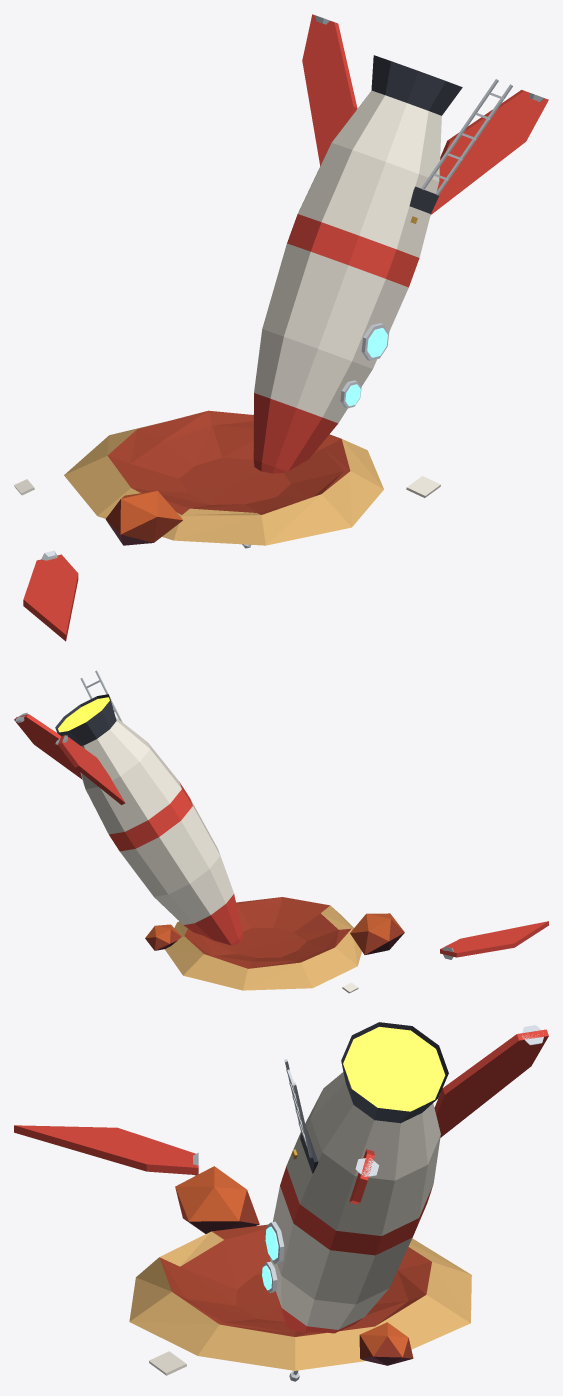
The model's file is Ship_Rocket_Classic_Crashed.fbx.
3 renders of one model, top to bottom at view 1: azimuth 30°, elevation 25°; view 2: azimuth 150°, elevation 25°; view 3: azimuth 270°, elevation 25°, orthographic. The views are drawn at different scales.
Parts seen in each view (by area): view 1: Ship_Rocket_Classic_Crashed_Body, Ship_Rocket_Classic_Crashed_Crater, Ship_Rocket_Classic_Crashed_Loose_Fin; view 2: Ship_Rocket_Classic_Crashed_Body, Ship_Rocket_Classic_Crashed_Crater, Ship_Rocket_Classic_Crashed_Loose_Fin; view 3: Ship_Rocket_Classic_Crashed_Body, Ship_Rocket_Classic_Crashed_Crater, Ship_Rocket_Classic_Crashed_Loose_Fin, Ship_Rocket_Classic_Crashed_Debris.
Boxes of the visible parts, bbox=[...] form: Ship_Rocket_Classic_Crashed_Body: bbox=[242, 14, 548, 548]; Ship_Rocket_Classic_Crashed_Crater: bbox=[64, 410, 383, 545]; Ship_Rocket_Classic_Crashed_Loose_Fin: bbox=[23, 550, 78, 641]; Ship_Rocket_Classic_Crashed_Body: bbox=[14, 670, 243, 945]; Ship_Rocket_Classic_Crashed_Crater: bbox=[145, 897, 404, 990]; Ship_Rocket_Classic_Crashed_Loose_Fin: bbox=[440, 921, 548, 959]; Ship_Rocket_Classic_Crashed_Body: bbox=[262, 1022, 548, 1381]; Ship_Rocket_Classic_Crashed_Crater: bbox=[129, 1166, 471, 1370]; Ship_Rocket_Classic_Crashed_Loose_Fin: bbox=[14, 1125, 198, 1175]; Ship_Rocket_Classic_Crashed_Debris: bbox=[149, 1351, 186, 1375].
Bounding box in the file's own units: 14.14 × 8.73 × 9.27.
